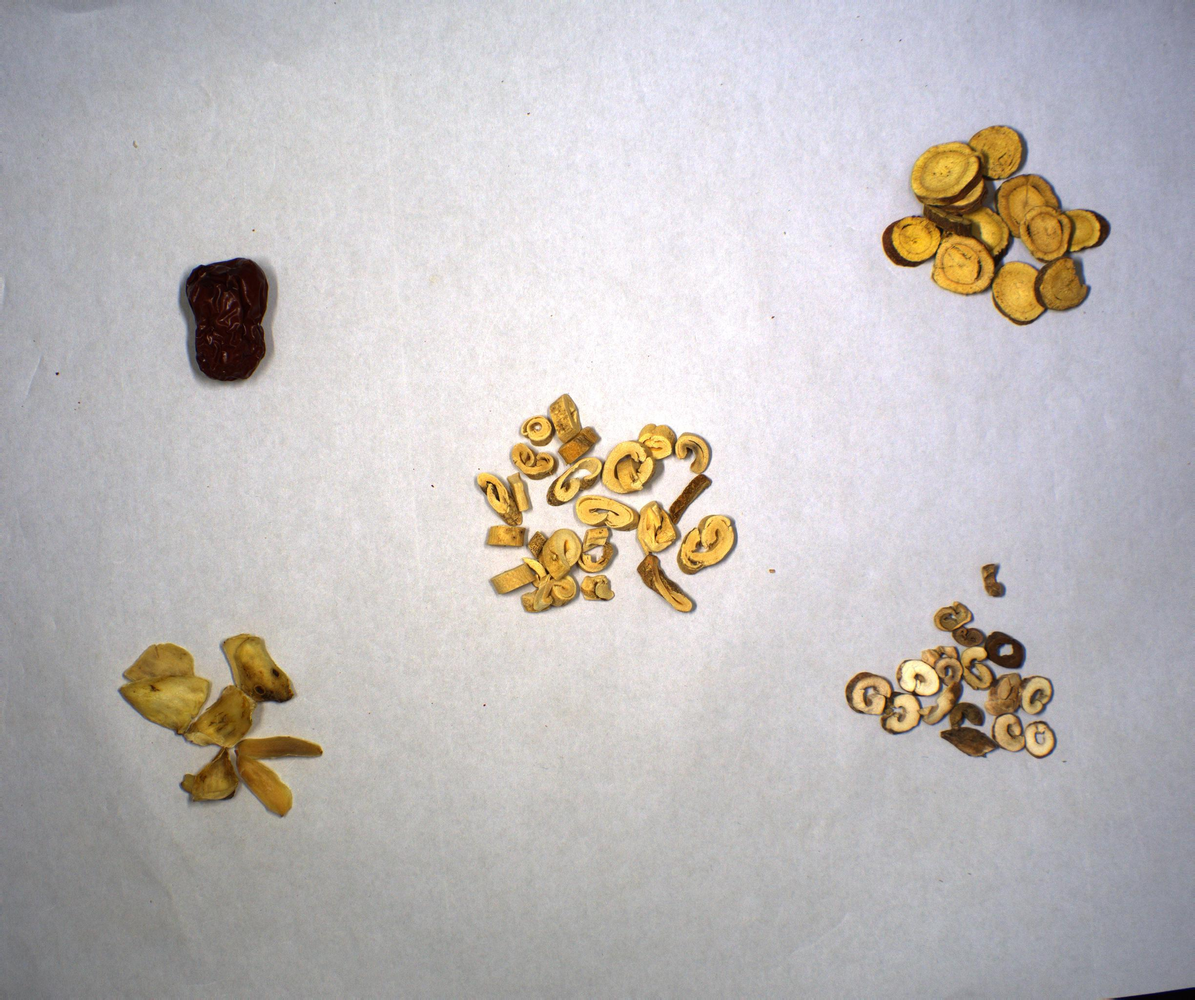baihe: (120, 634, 323, 823)
baixianpi: (474, 396, 738, 616)
dazao: (180, 256, 278, 387)
gancaopian: (883, 127, 1109, 330)
mudanpi: (847, 563, 1058, 762)
